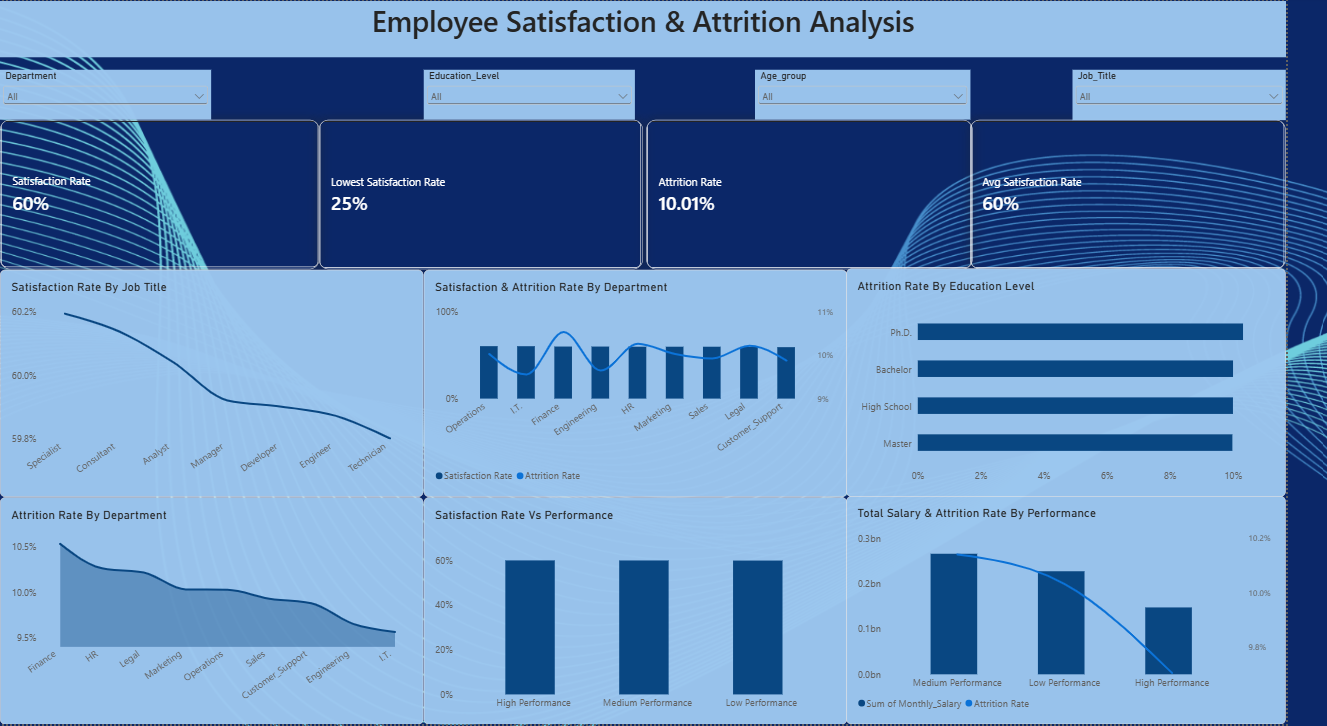

Layout of this report page (visuals, bound fields, positions):
{"tool":"powerbi","page":{"name":"Employee Satisfaction & Attrition Analysis","canvas":[1920,1080],"ordinal":3},"visuals":[{"type":"textbox","box":[0,0,1919.7,83.6],"z":0},{"type":"cardVisual","fields":{"Data":["Measure Table.Satisfaction Rate"]},"box":[0,177.3,477,223],"z":1000},{"type":"cardVisual","fields":{"Data":["Measure Table.High Satisfaction Rate"]},"box":[475.8,177.3,483.9,223.2],"z":2000},{"type":"cardVisual","fields":{"Data":["Measure Table.Attrition Rate"]},"box":[964.7,177.3,487.5,223.2],"z":3000},{"type":"cardVisual","fields":{"Data":["Measure Table.Avg Satisfaction Rate"]},"box":[1448,177.3,471.4,223.2],"z":4000},{"type":"lineChart","title":"Satisfaction Rate By Job Title","fields":{"Y":["Measure Table.Satisfaction Rate"],"Category":["Clean data.Job_Title"]},"box":[0,401.2,631.9,339.1],"z":5000},{"type":"areaChart","title":"Attrition Rate By Department","fields":{"Category":["Clean data.Department"],"Y":["Measure Table.Attrition Rate"]},"box":[0,740.8,631.9,339.1],"z":6000},{"type":"lineClusteredColumnComboChart","title":"Satisfaction & Attrition Rate By Department","fields":{"Category":["Clean data.Department"],"Y2":["Measure Table.Attrition Rate"],"Y":["Measure Table.Satisfaction Rate"]},"box":[632.5,401.3,631.9,339.1],"z":7000},{"type":"clusteredColumnChart","title":"Satisfaction Rate Vs Performance","fields":{"Category":["Clean data.performance bedge"],"Y":["Measure Table.Satisfaction Rate"]},"box":[632.5,741.6,631.9,339.1],"z":8000},{"type":"clusteredBarChart","title":"Attrition Rate By Education Level","fields":{"Category":["Clean data.Education_Level"],"Y":["Measure Table.Attrition Rate"]},"box":[1263.9,400,655.7,341],"z":9000},{"type":"lineClusteredColumnComboChart","title":"Total Salary & Attrition Rate By Performance","fields":{"Y2":["Measure Table.Attrition Rate"],"Y":["Sum(Clean data.Monthly_Salary)"],"Category":["Clean data.performance bedge"]},"box":[1263.9,739.3,655.7,341],"z":10000},{"type":"slicer","fields":{"Values":["Clean data.Department"]},"box":[0,102.9,315.5,74.2],"z":11000},{"type":"slicer","fields":{"Values":["Clean data.Education_Level"]},"box":[632.4,102.8,315.5,74.2],"z":12000},{"type":"slicer","fields":{"Values":["Clean data.Age_group"]},"box":[1126.8,102.8,321.6,74.2],"z":13000},{"type":"slicer","fields":{"Values":["Clean data.Job_Title"]},"box":[1601.4,102.8,318.6,75.3],"z":14000}]}

Visuals, with their boxes in screenshot pixels (x1, y1, x2, y2), scaled from the page's 1920x1080 canvas onto the 1327x726 screenshot:
textbox: 0 0 1326 56
cardVisual - Measure Table.Satisfaction Rate: 0 119 330 269
cardVisual - Measure Table.High Satisfaction Rate: 329 119 663 269
cardVisual - Measure Table.Attrition Rate: 667 119 1004 269
cardVisual - Measure Table.Avg Satisfaction Rate: 1001 119 1326 269
"Satisfaction Rate By Job Title" lineChart: 0 270 437 498
"Attrition Rate By Department" areaChart: 0 498 437 725
"Satisfaction & Attrition Rate By Department" lineClusteredColumnComboChart: 437 270 874 498
"Satisfaction Rate Vs Performance" clusteredColumnChart: 437 499 874 725
"Attrition Rate By Education Level" clusteredBarChart: 874 269 1326 498
"Total Salary & Attrition Rate By Performance" lineClusteredColumnComboChart: 874 497 1326 725
slicer - Clean data.Department: 0 69 218 119
slicer - Clean data.Education_Level: 437 69 655 119
slicer - Clean data.Age_group: 779 69 1001 119
slicer - Clean data.Job_Title: 1107 69 1326 120
